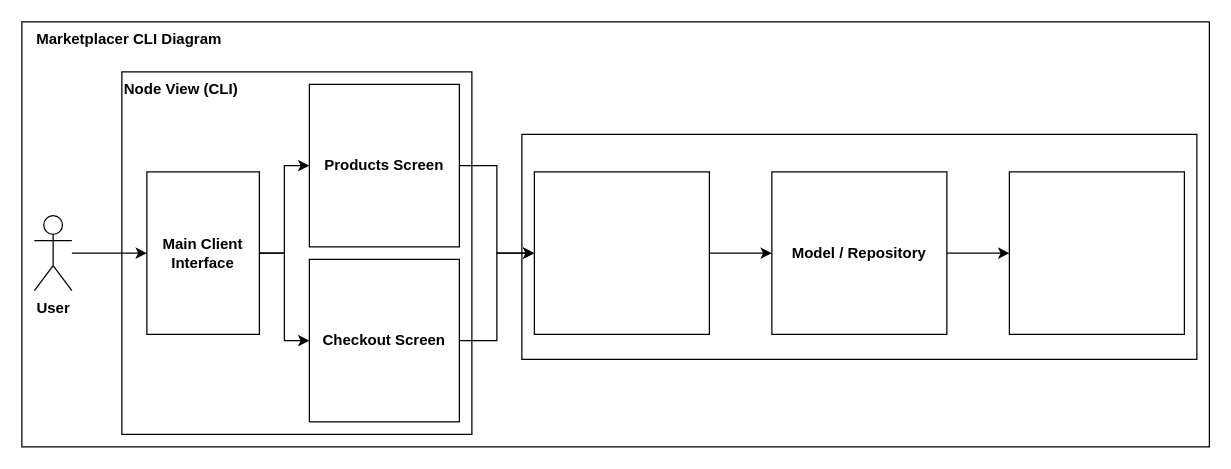
Image size: 1231x469. Some labels were removed from this diagram. Here are the shapes that lost their labels. From the top down, the box of each, then its label:
(533, 171, 709, 334): Controller (CRUD)
(521, 133, 1197, 359): Node Backend
(1008, 171, 1184, 334): In-Memory Data Store
